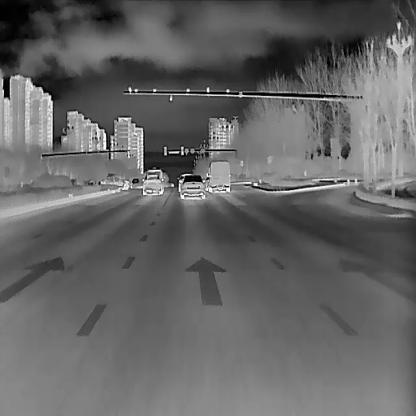car: (206, 158, 231, 192), (178, 172, 206, 198), (141, 172, 165, 195), (98, 174, 131, 190), (145, 167, 163, 193), (131, 177, 139, 187)
